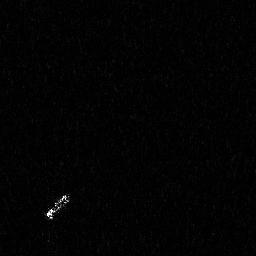ship: (43, 190, 72, 223)
